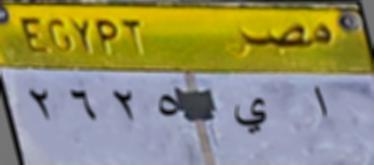2: (108, 83, 142, 127), (25, 85, 55, 122)
5: (152, 91, 182, 125)
6: (65, 83, 99, 134)
alif: (304, 80, 332, 126)
yaa: (230, 92, 271, 140)
